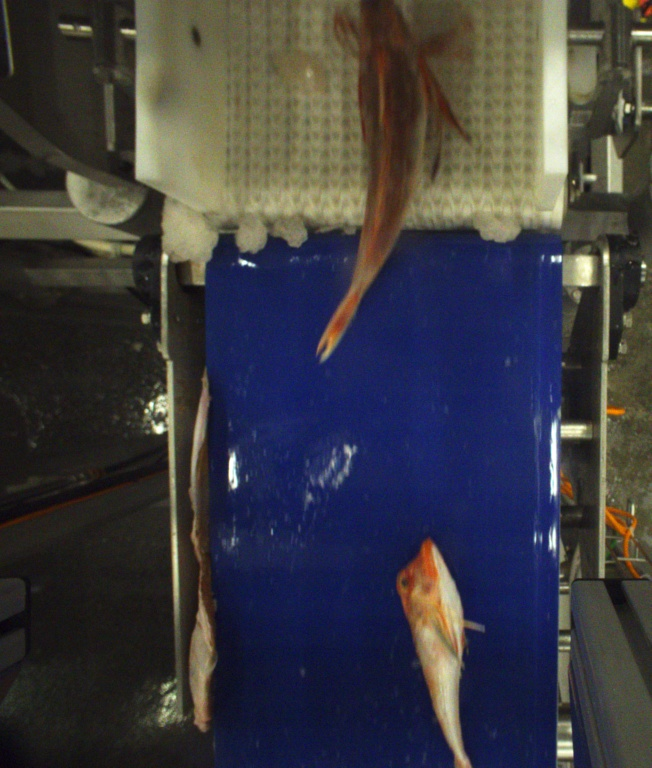GUU: (313, 0, 474, 362)
